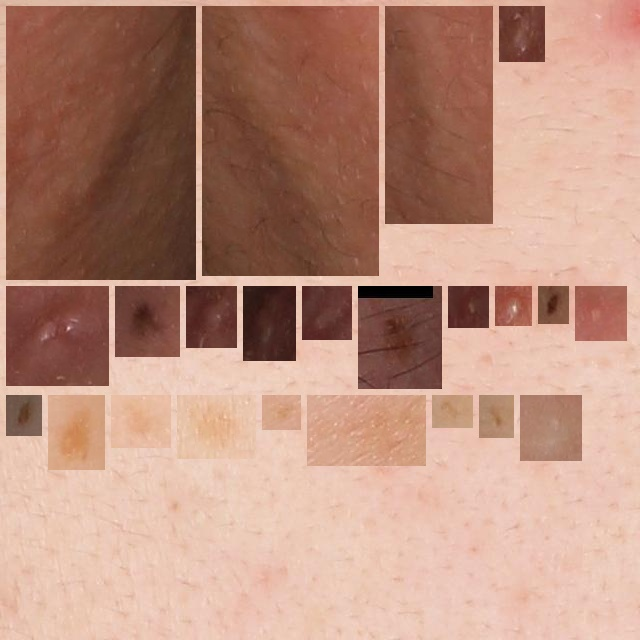hypertrophic_scar: (14, 14, 188, 272), (210, 14, 371, 269), (393, 14, 485, 216), (14, 294, 101, 378), (528, 403, 574, 453), (251, 294, 288, 353), (194, 294, 229, 340), (310, 294, 344, 332), (507, 14, 537, 54)
melasma: (315, 403, 418, 458), (185, 403, 248, 451), (56, 403, 97, 462), (119, 403, 163, 440), (487, 403, 506, 430), (270, 403, 293, 422), (440, 403, 465, 420)
nevus: (366, 294, 434, 381), (123, 294, 172, 349), (14, 403, 34, 428), (546, 294, 561, 316)
pustule: (583, 294, 619, 333), (456, 294, 481, 320), (503, 294, 524, 318)
